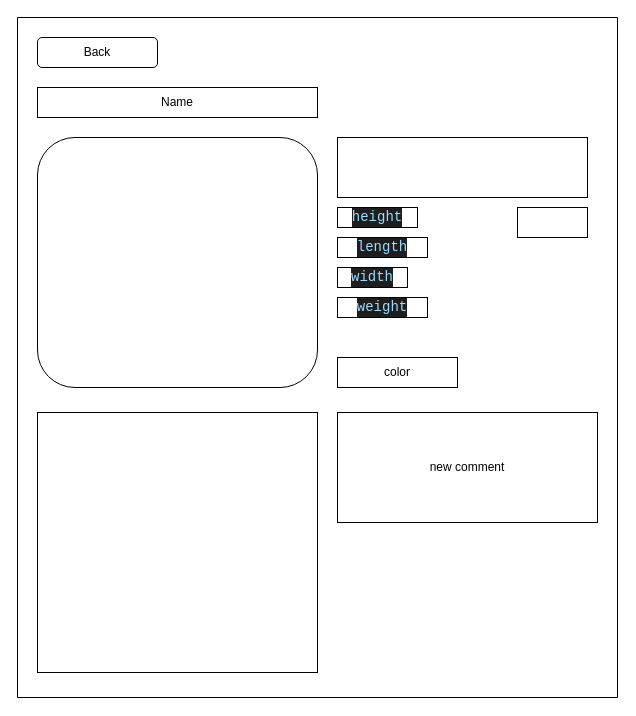
This 636x716 diagram has some shape labels left out. The shapes that lost their labels are listed below. From the top down, each one's centre as x and y in pixels, then its label:
(x=462, y=167): discription
(x=552, y=222): count
(x=177, y=262): Photo
(x=177, y=542): coments
